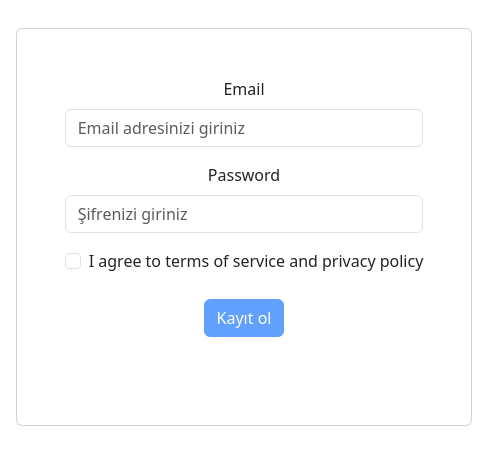
it: Login Page › Error messages › email input throws error for emre@wit.
Type "emre@wit." into the field with test id "email-input" at (245, 128), box [65,109,424,147]
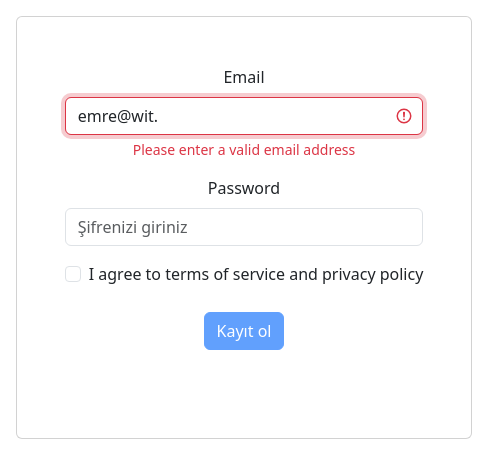
Expected: the text "Please enter a valid email address" is shown, [133,140,355,158]
